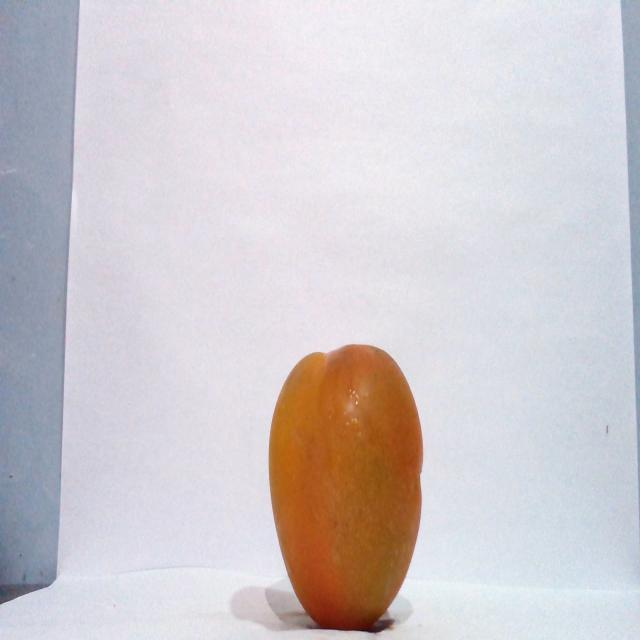Red: (266, 342, 424, 630)
